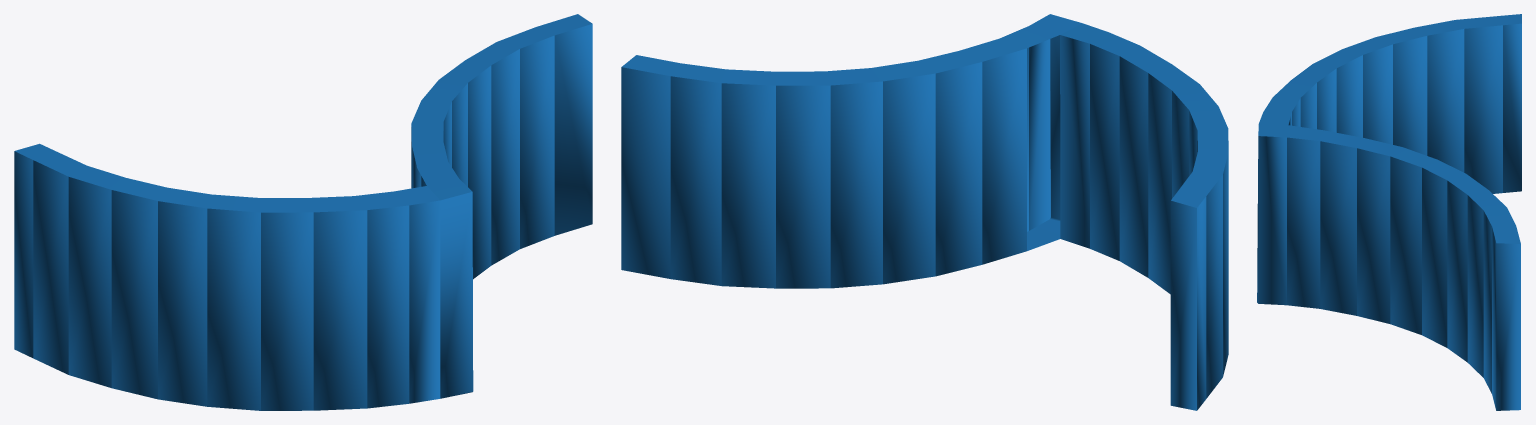
Rendered from Exit_Turn_Metal_02.fbx.
3 views of the same model, side by side, from view 1: azimuth 30°, elevation 25°; view 2: azimuth 150°, elevation 25°; view 3: azimuth 270°, elevation 25° (orthographic). The views are drawn at different scales.
Visible parts, largest first — view 1: Exit_Turn_Metal_02; view 2: Exit_Turn_Metal_02; view 3: Exit_Turn_Metal_02.
Boxes of the visible parts, box(x1,y1,x2,y2) form: Exit_Turn_Metal_02: box(14, 14, 592, 410); Exit_Turn_Metal_02: box(621, 14, 1228, 410); Exit_Turn_Metal_02: box(1257, 14, 1521, 410).
Size of the model in its own units: 8.62 by 2.93 by 4.19.
